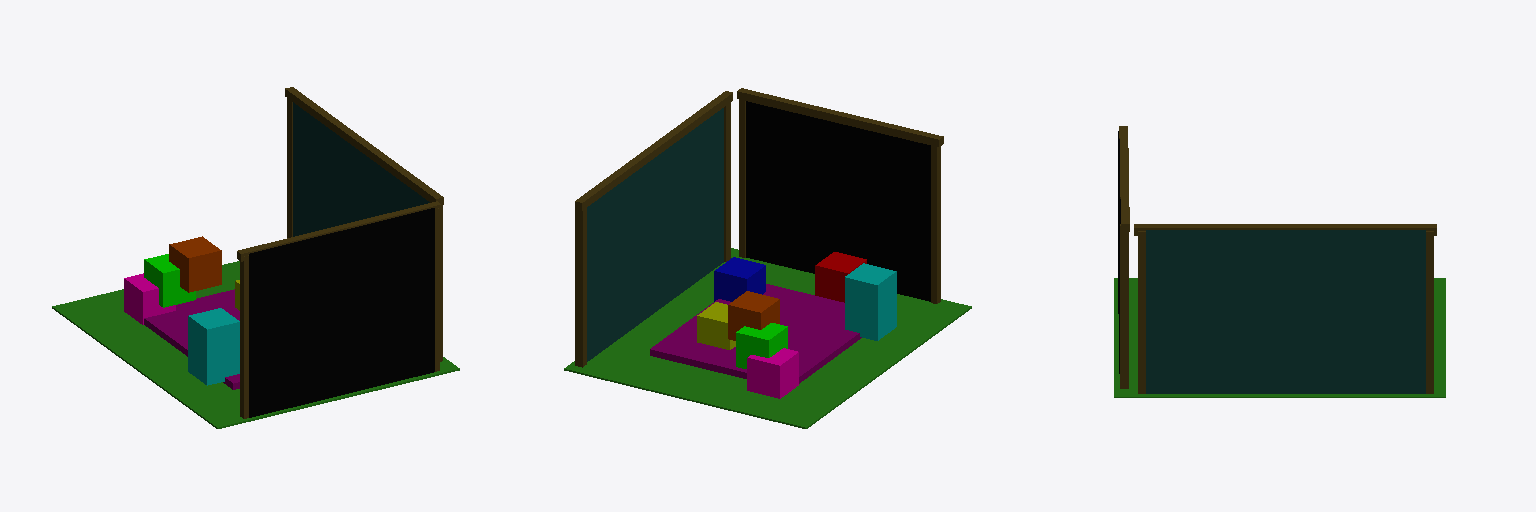
File: newSimpleSceneDoubleMirror.obj
3 renders of one model, left to right at view 1: azimuth 30°, elevation 25°; view 2: azimuth 150°, elevation 25°; view 3: azimuth 270°, elevation 25°, orthographic.
Visible parts, largest first — view 1: Cube.007_Cube.008, Object.01_Object.1, Cube_Cube.001, Object.06_Object.6, Object.09_Object.9, Cube.003_Cube.004, Object.08_Object.8, Object.07_Object.7, Object.02_Object.2, Cube.005_Cube.006, Cube.004_Cube.005, Cube.001_Cube.002 (+1 smaller); view 2: Cube.007_Cube.008, Cube_Cube.001, Object.01_Object.1, Object.09_Object.9, Object.06_Object.6, Cube.004_Cube.005, Cube.003_Cube.004, Object.02_Object.2, Cube.001_Cube.002, Object.05_Object.5, Object.08_Object.8, Object.07_Object.7 (+5 smaller); view 3: Cube_Cube.001, Object.01_Object.1, Cube.003_Cube.004, Cube.006_Cube.007, Cube.001_Cube.002, Cube.002_Cube.003, Cube.004_Cube.005.
Boxes of the visible parts, x1=… form: Cube.007_Cube.008: x1=249, y1=208, x2=434, y2=417; Object.01_Object.1: x1=52, y1=261, x2=459, y2=428; Cube_Cube.001: x1=293, y1=102, x2=429, y2=236; Object.06_Object.6: x1=188, y1=308, x2=239, y2=385; Object.09_Object.9: x1=144, y1=289, x2=239, y2=389; Cube.003_Cube.004: x1=285, y1=87, x2=443, y2=204; Object.08_Object.8: x1=169, y1=236, x2=221, y2=292; Object.07_Object.7: x1=144, y1=254, x2=195, y2=307; Object.02_Object.2: x1=124, y1=273, x2=175, y2=324; Cube.005_Cube.006: x1=240, y1=255, x2=248, y2=418; Cube.004_Cube.005: x1=237, y1=201, x2=441, y2=261; Cube.001_Cube.002: x1=287, y1=98, x2=292, y2=237; Cube.007_Cube.008: x1=746, y1=101, x2=930, y2=301; Cube_Cube.001: x1=587, y1=108, x2=723, y2=361; Object.01_Object.1: x1=564, y1=248, x2=971, y2=428; Object.09_Object.9: x1=650, y1=284, x2=861, y2=383; Object.06_Object.6: x1=845, y1=263, x2=896, y2=340; Cube.004_Cube.005: x1=737, y1=88, x2=943, y2=146; Cube.003_Cube.004: x1=575, y1=91, x2=732, y2=210; Object.02_Object.2: x1=747, y1=348, x2=798, y2=398; Cube.001_Cube.002: x1=575, y1=208, x2=586, y2=367; Object.05_Object.5: x1=714, y1=257, x2=765, y2=301; Object.08_Object.8: x1=728, y1=291, x2=779, y2=340; Object.07_Object.7: x1=736, y1=323, x2=787, y2=368; Cube_Cube.001: x1=1146, y1=230, x2=1425, y2=393; Object.01_Object.1: x1=1114, y1=278, x2=1445, y2=397; Cube.003_Cube.004: x1=1134, y1=224, x2=1436, y2=235; Cube.006_Cube.007: x1=1120, y1=224, x2=1128, y2=388; Cube.001_Cube.002: x1=1426, y1=231, x2=1433, y2=393; Cube.002_Cube.003: x1=1138, y1=231, x2=1145, y2=393; Cube.004_Cube.005: x1=1119, y1=126, x2=1129, y2=231.
Size of the model in its own units: 3.09 by 2.05 by 3.66.